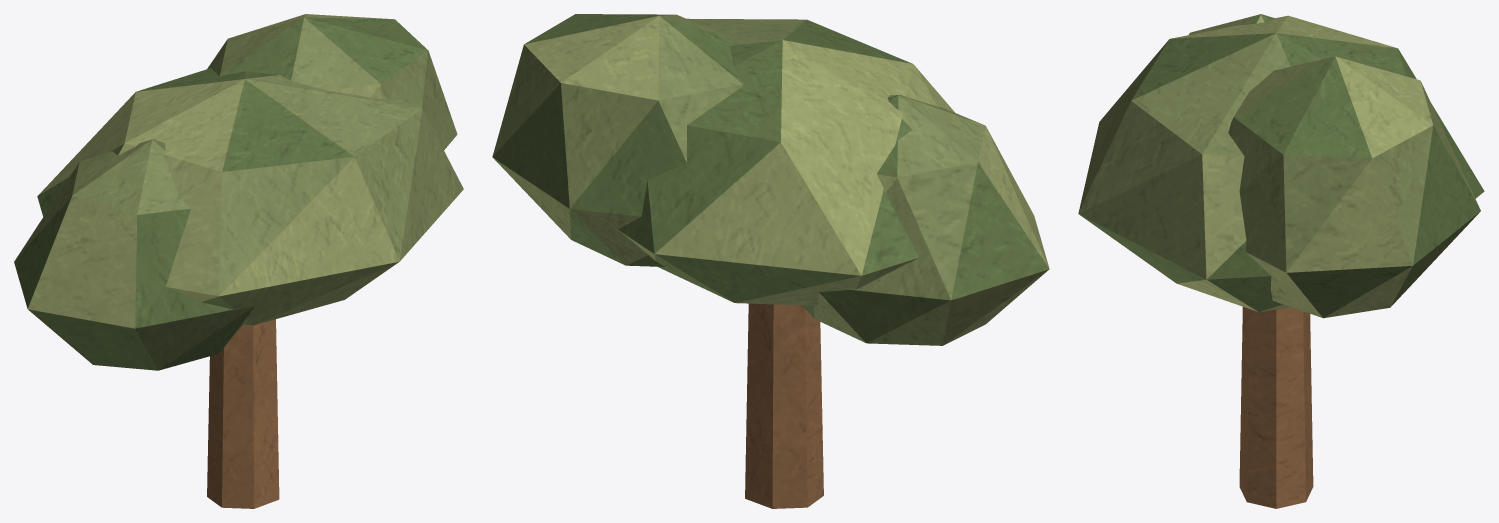
Rendered from alcornoque.glb.
3 views of the same model, side by side, from view 1: azimuth 30°, elevation 25°; view 2: azimuth 150°, elevation 25°; view 3: azimuth 270°, elevation 25° (orthographic). The views are drawn at different scales.
Parts seen in each view (by area): view 1: alcornoque; view 2: alcornoque; view 3: alcornoque.
Part boxes in pixels (<box>): alcornoque: <box>14,14,463,508</box>; alcornoque: <box>492,14,1049,508</box>; alcornoque: <box>1078,14,1484,508</box>.
Size of the model in its own units: 6.77 by 6.3 by 4.83.
Materials: 1 (1 with a texture image).
